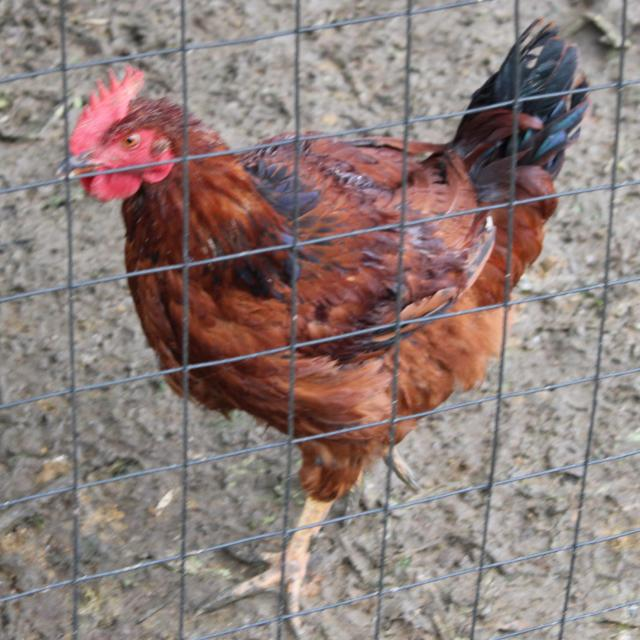cook: (51, 18, 640, 634)
